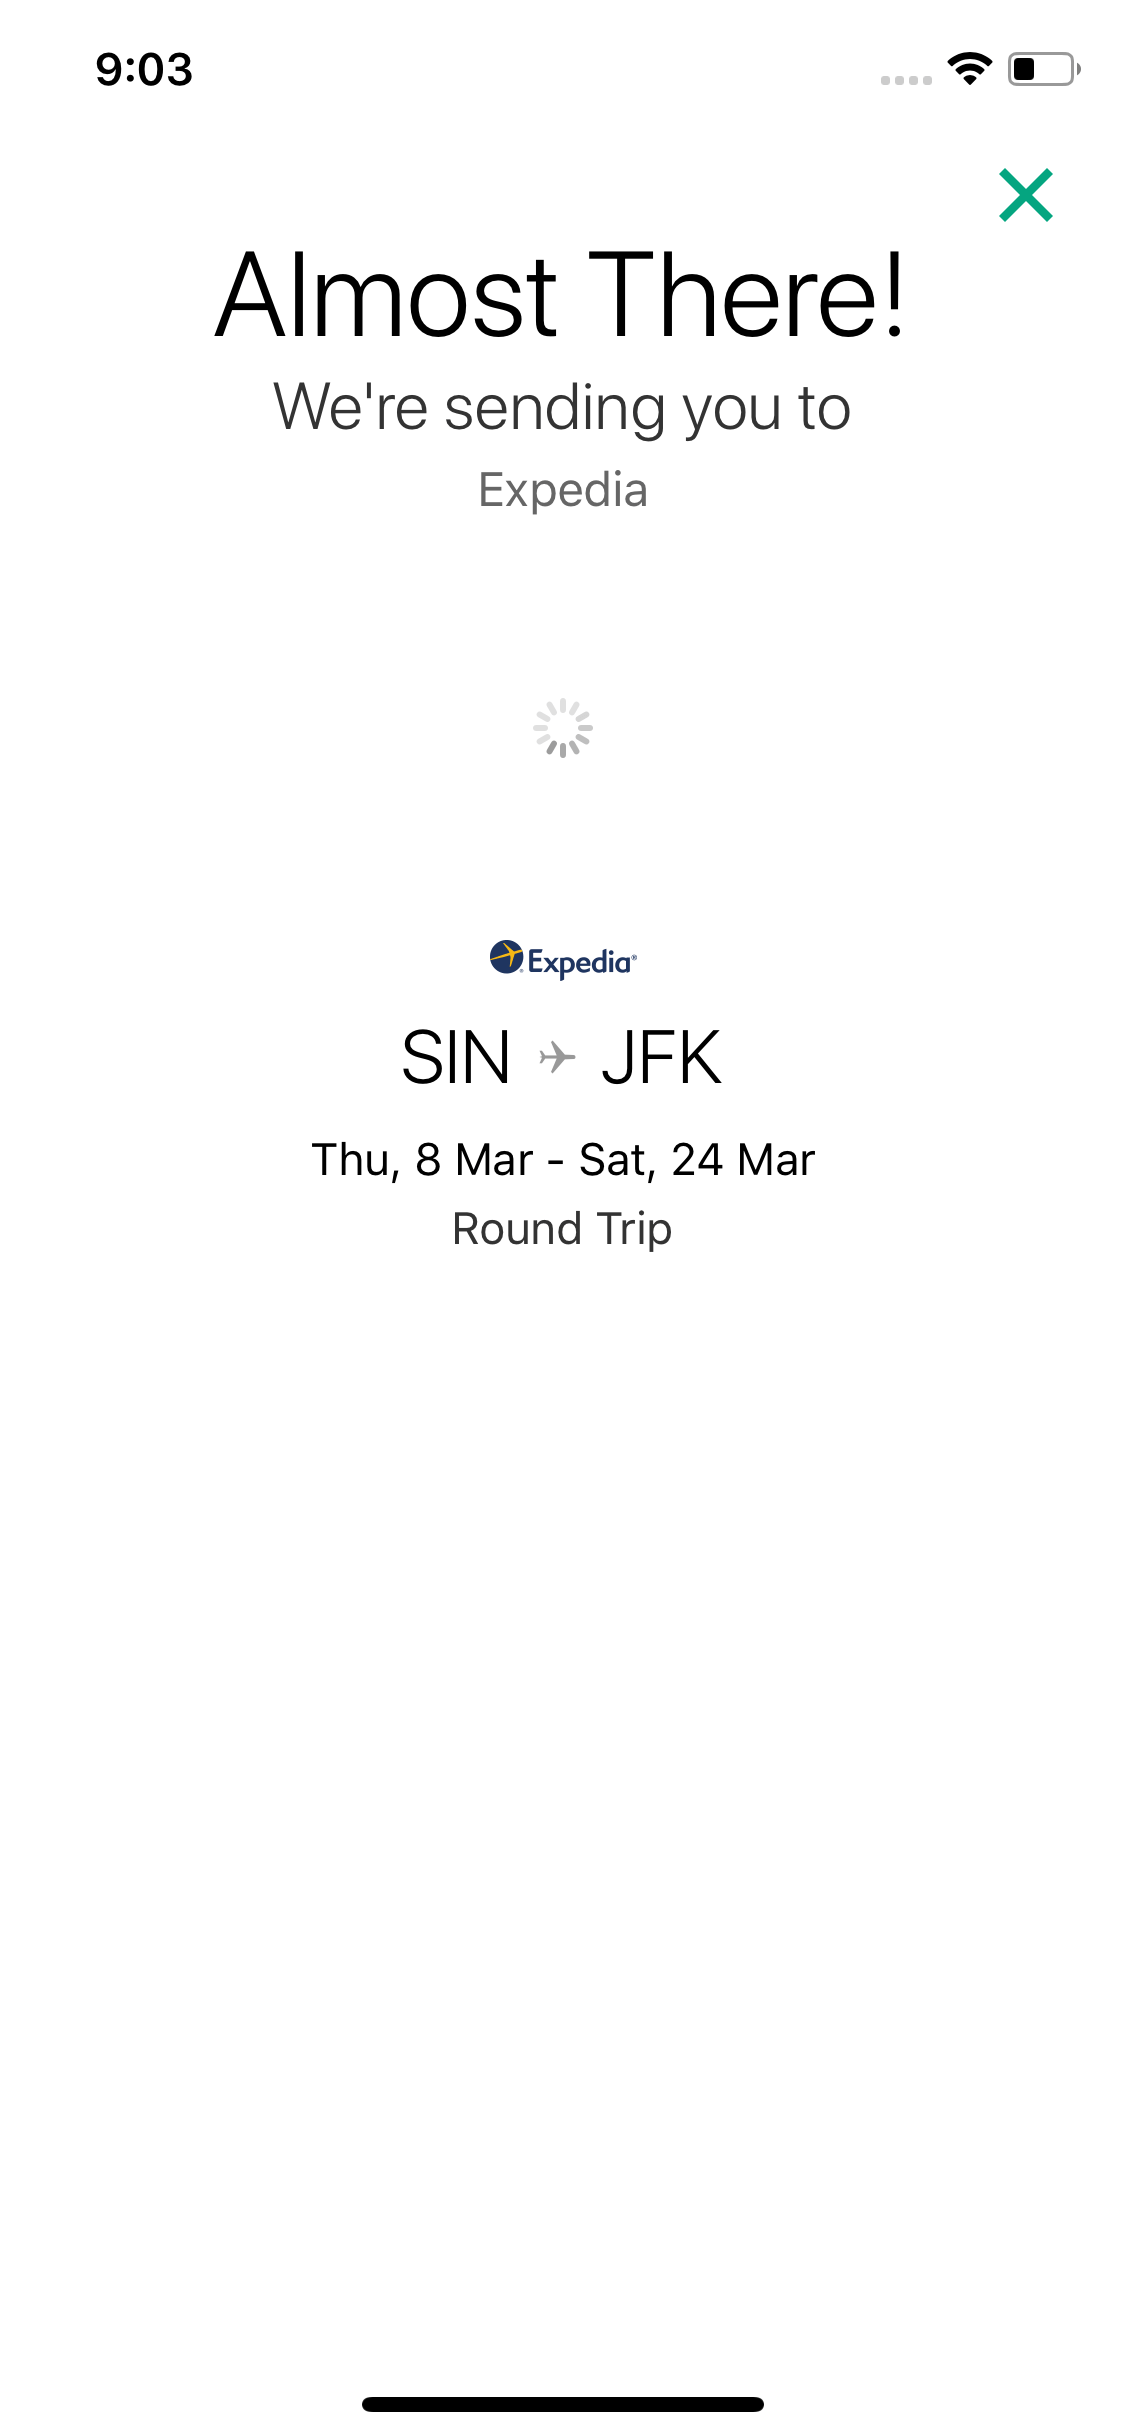Buttons: (960, 121, 1091, 261)
